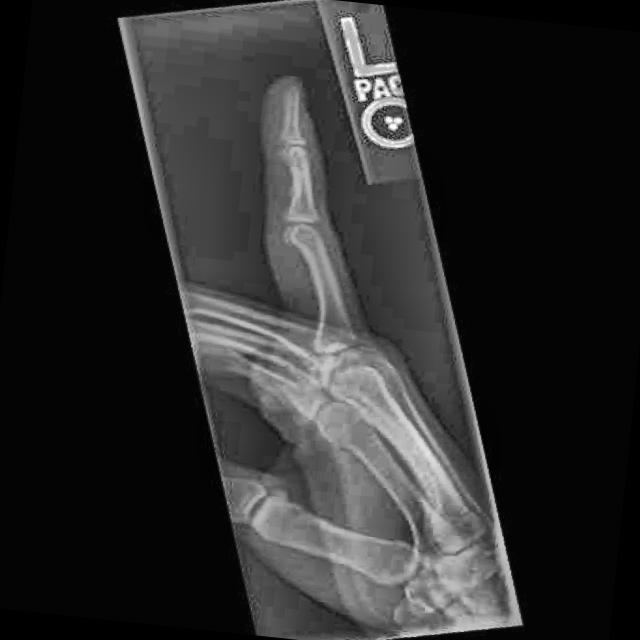fingers positive: (276, 148, 319, 178)
